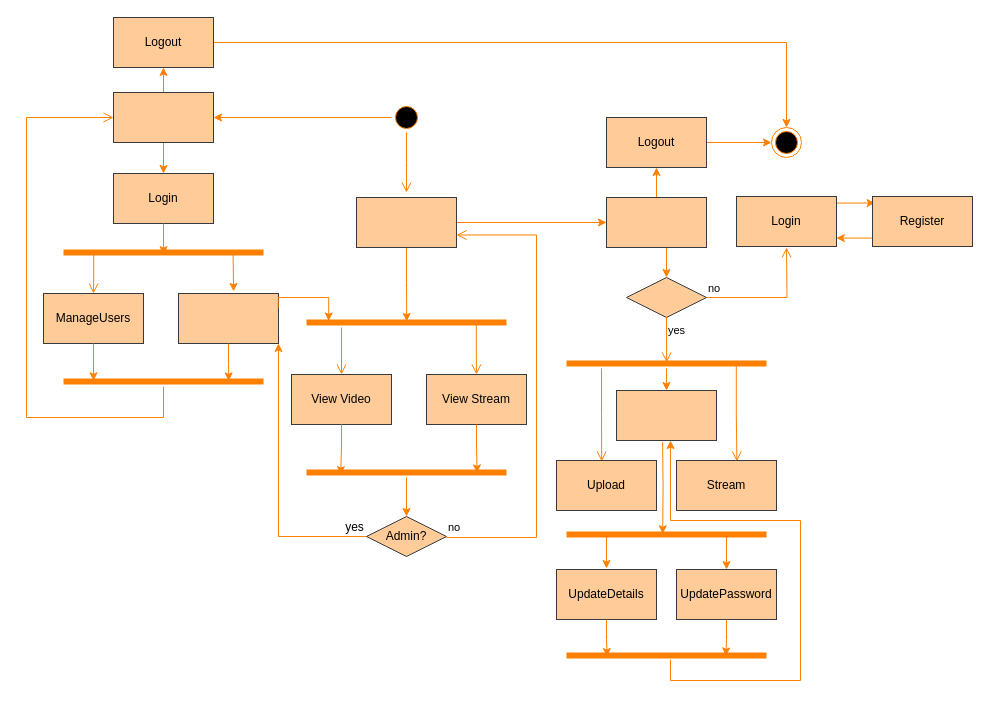
Image size: 990x706. Some labels were removed from this diagram. Here are the shapes that lost their labels. From the top down, the centre of each, then its label:
At point 163,117: "Admin".
At point 406,222: "View Feed".
At point 656,222: "Profile".
At point 666,297: "Logged In?".
At point 228,318: "ManageVideos".
At point 666,415: "Settings".
